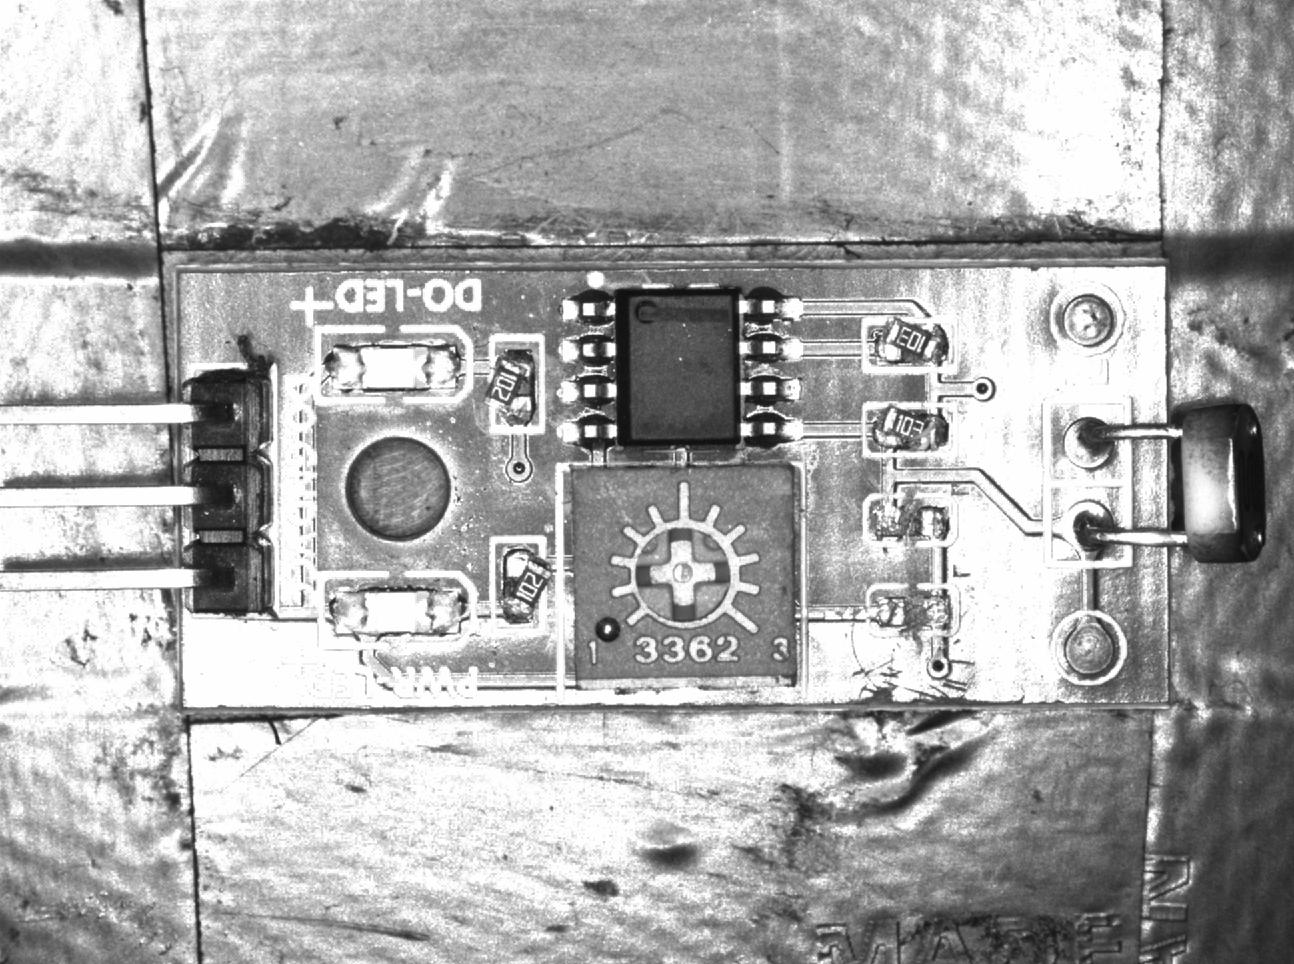lifted: (490, 537, 552, 630), (487, 336, 544, 429), (865, 403, 961, 455), (863, 319, 958, 369)
miss: (865, 585, 959, 636), (865, 494, 957, 545)
